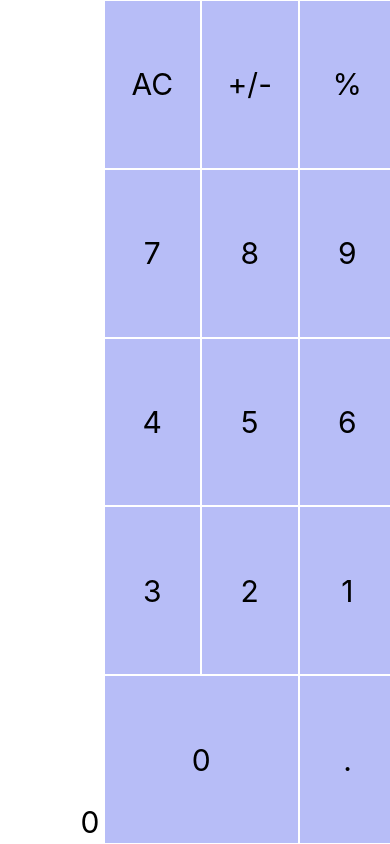
Test: ActionButtons › behavior › should negate a positive number when +/- is pressed
The image size is (390, 844).
Click the element with test id "root-touchable-button-5" at (250, 422), box [202,339,298,505]
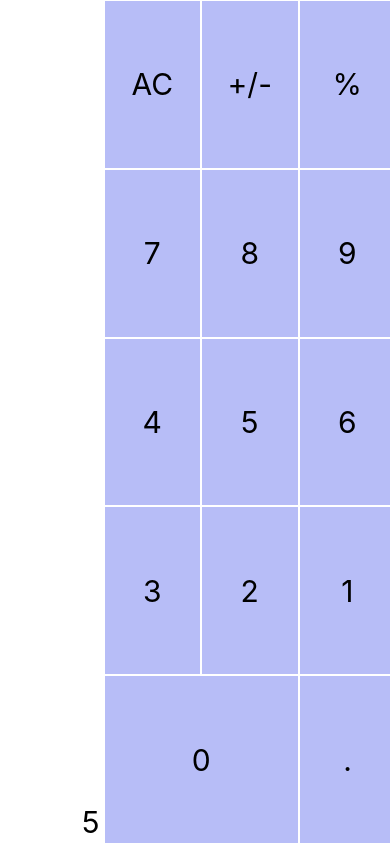
Click the element with test id "root-touchable-button-+/-" at (250, 84), box [202,1,298,168]
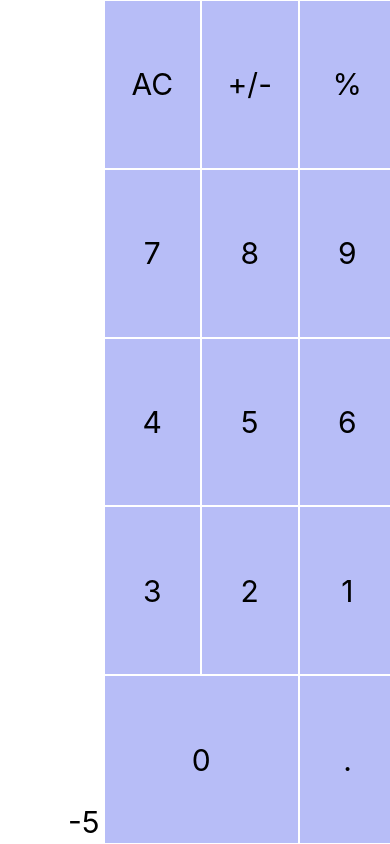
Expected: the element with test id "screen-root-view" reads "-5", [68,804,100,840]
